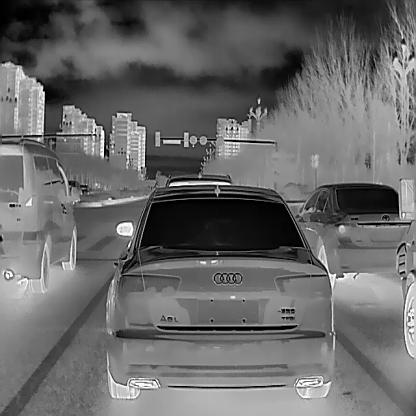car: (103, 180, 335, 399), (285, 180, 413, 290), (0, 135, 80, 293), (79, 184, 90, 195)
